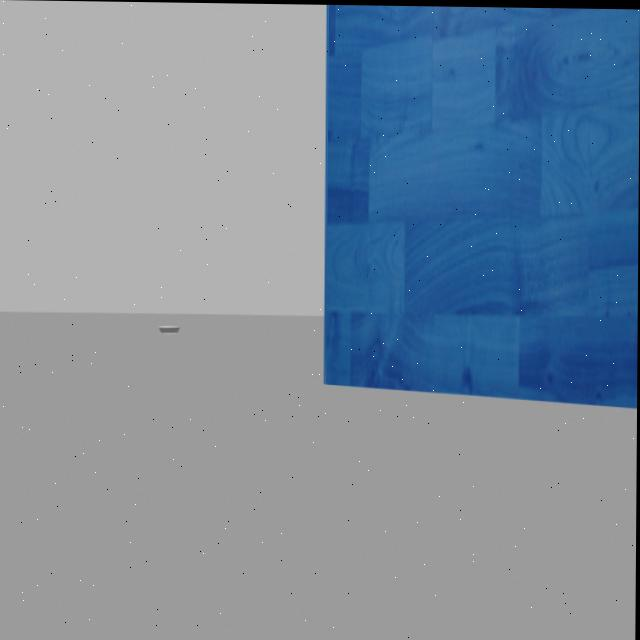bowl: (154, 318, 184, 340)
shelf: (313, 4, 640, 416)
